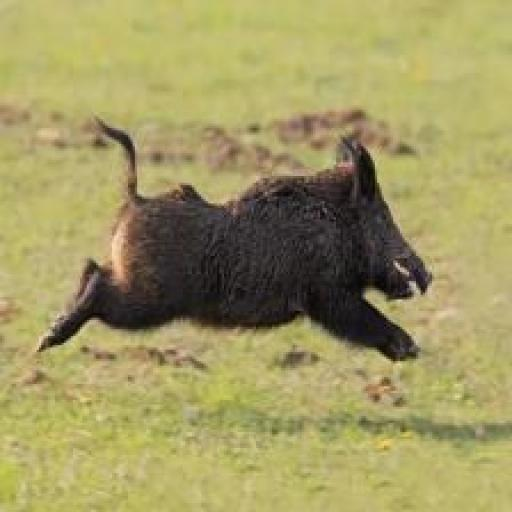Pig: (30, 103, 440, 376)
